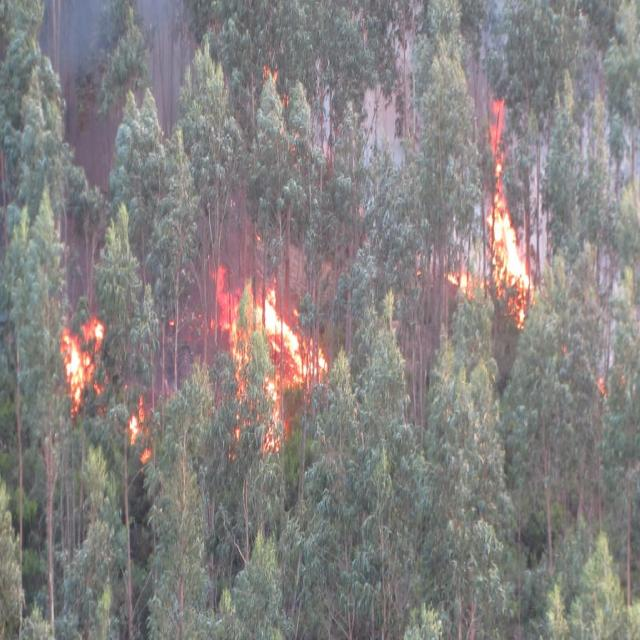Fire: (54, 284, 330, 448), (451, 132, 541, 320)
